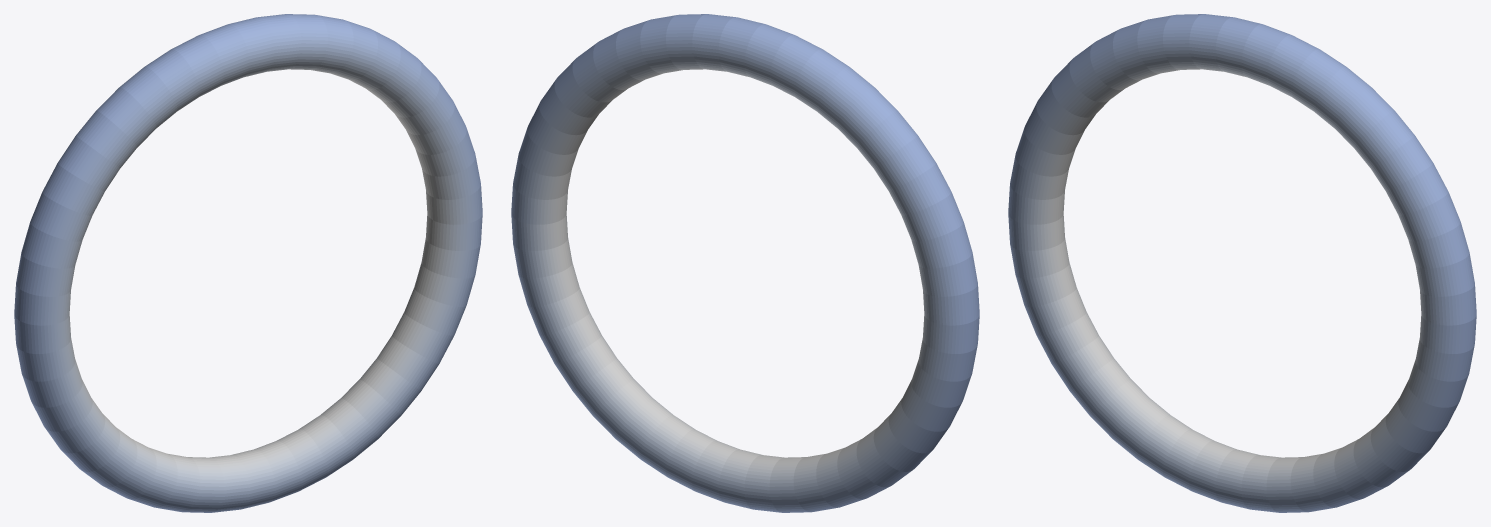
3 views of the same model, side by side, from view 1: azimuth 30°, elevation 25°; view 2: azimuth 150°, elevation 25°; view 3: azimuth 330°, elevation 25° (orthographic).
Visible parts, largest first — view 1: world; view 2: world; view 3: world.
Boxes of the visible parts, x1,y1,x2,y2 form: world: (14, 14, 482, 512); world: (511, 14, 979, 512); world: (1008, 14, 1476, 512).
Size of the model in its own units: 32 by 31.94 by 3.33.
